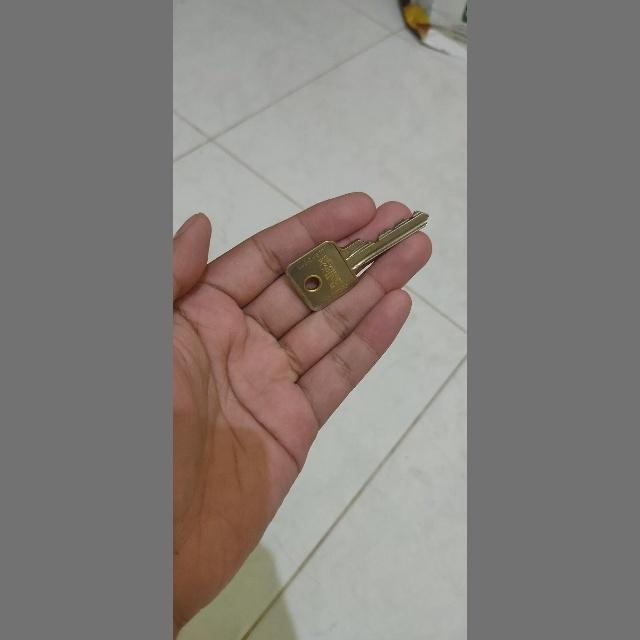Keys: (281, 202, 437, 314)
